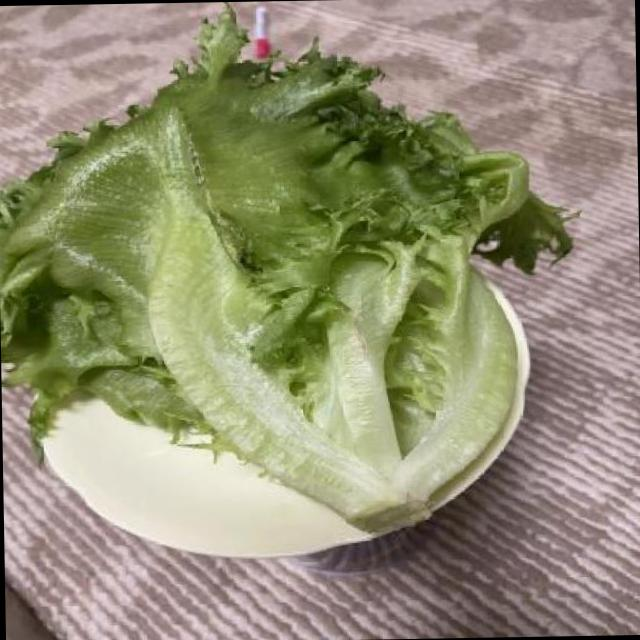Lettuce-Ready-to-Harvest: (0, 7, 570, 532)
